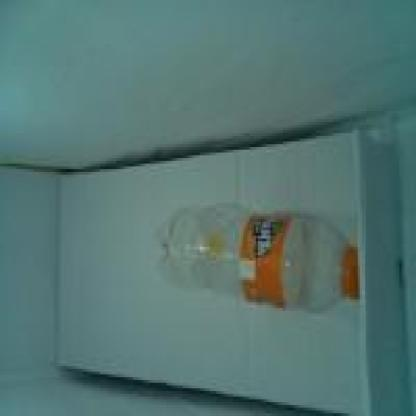Glass Bottle: (166, 207, 360, 312)
